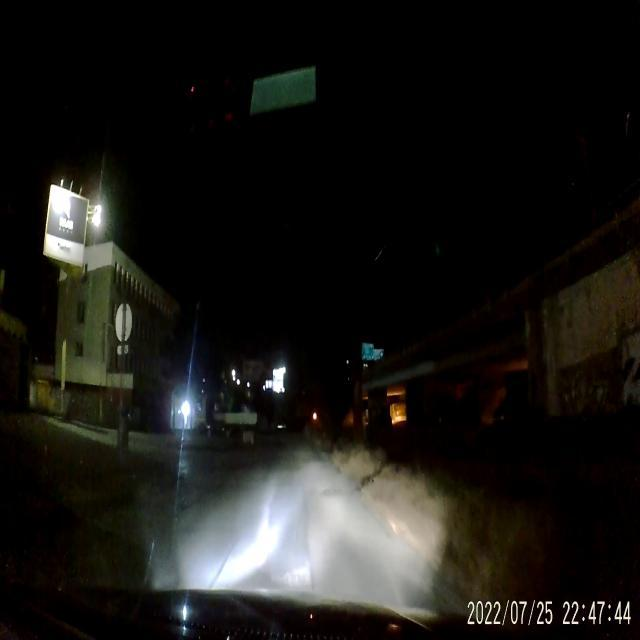Manhole: (320, 486, 342, 499)
